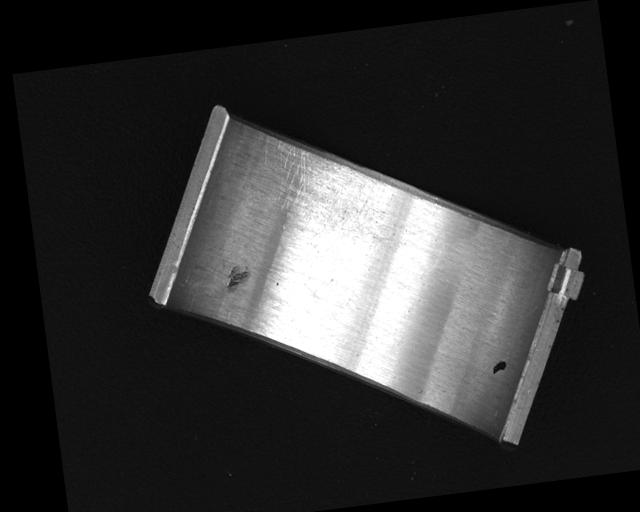blot: (490, 359, 508, 376)
bruise: (222, 263, 253, 291)
scratch: (259, 123, 384, 239)
